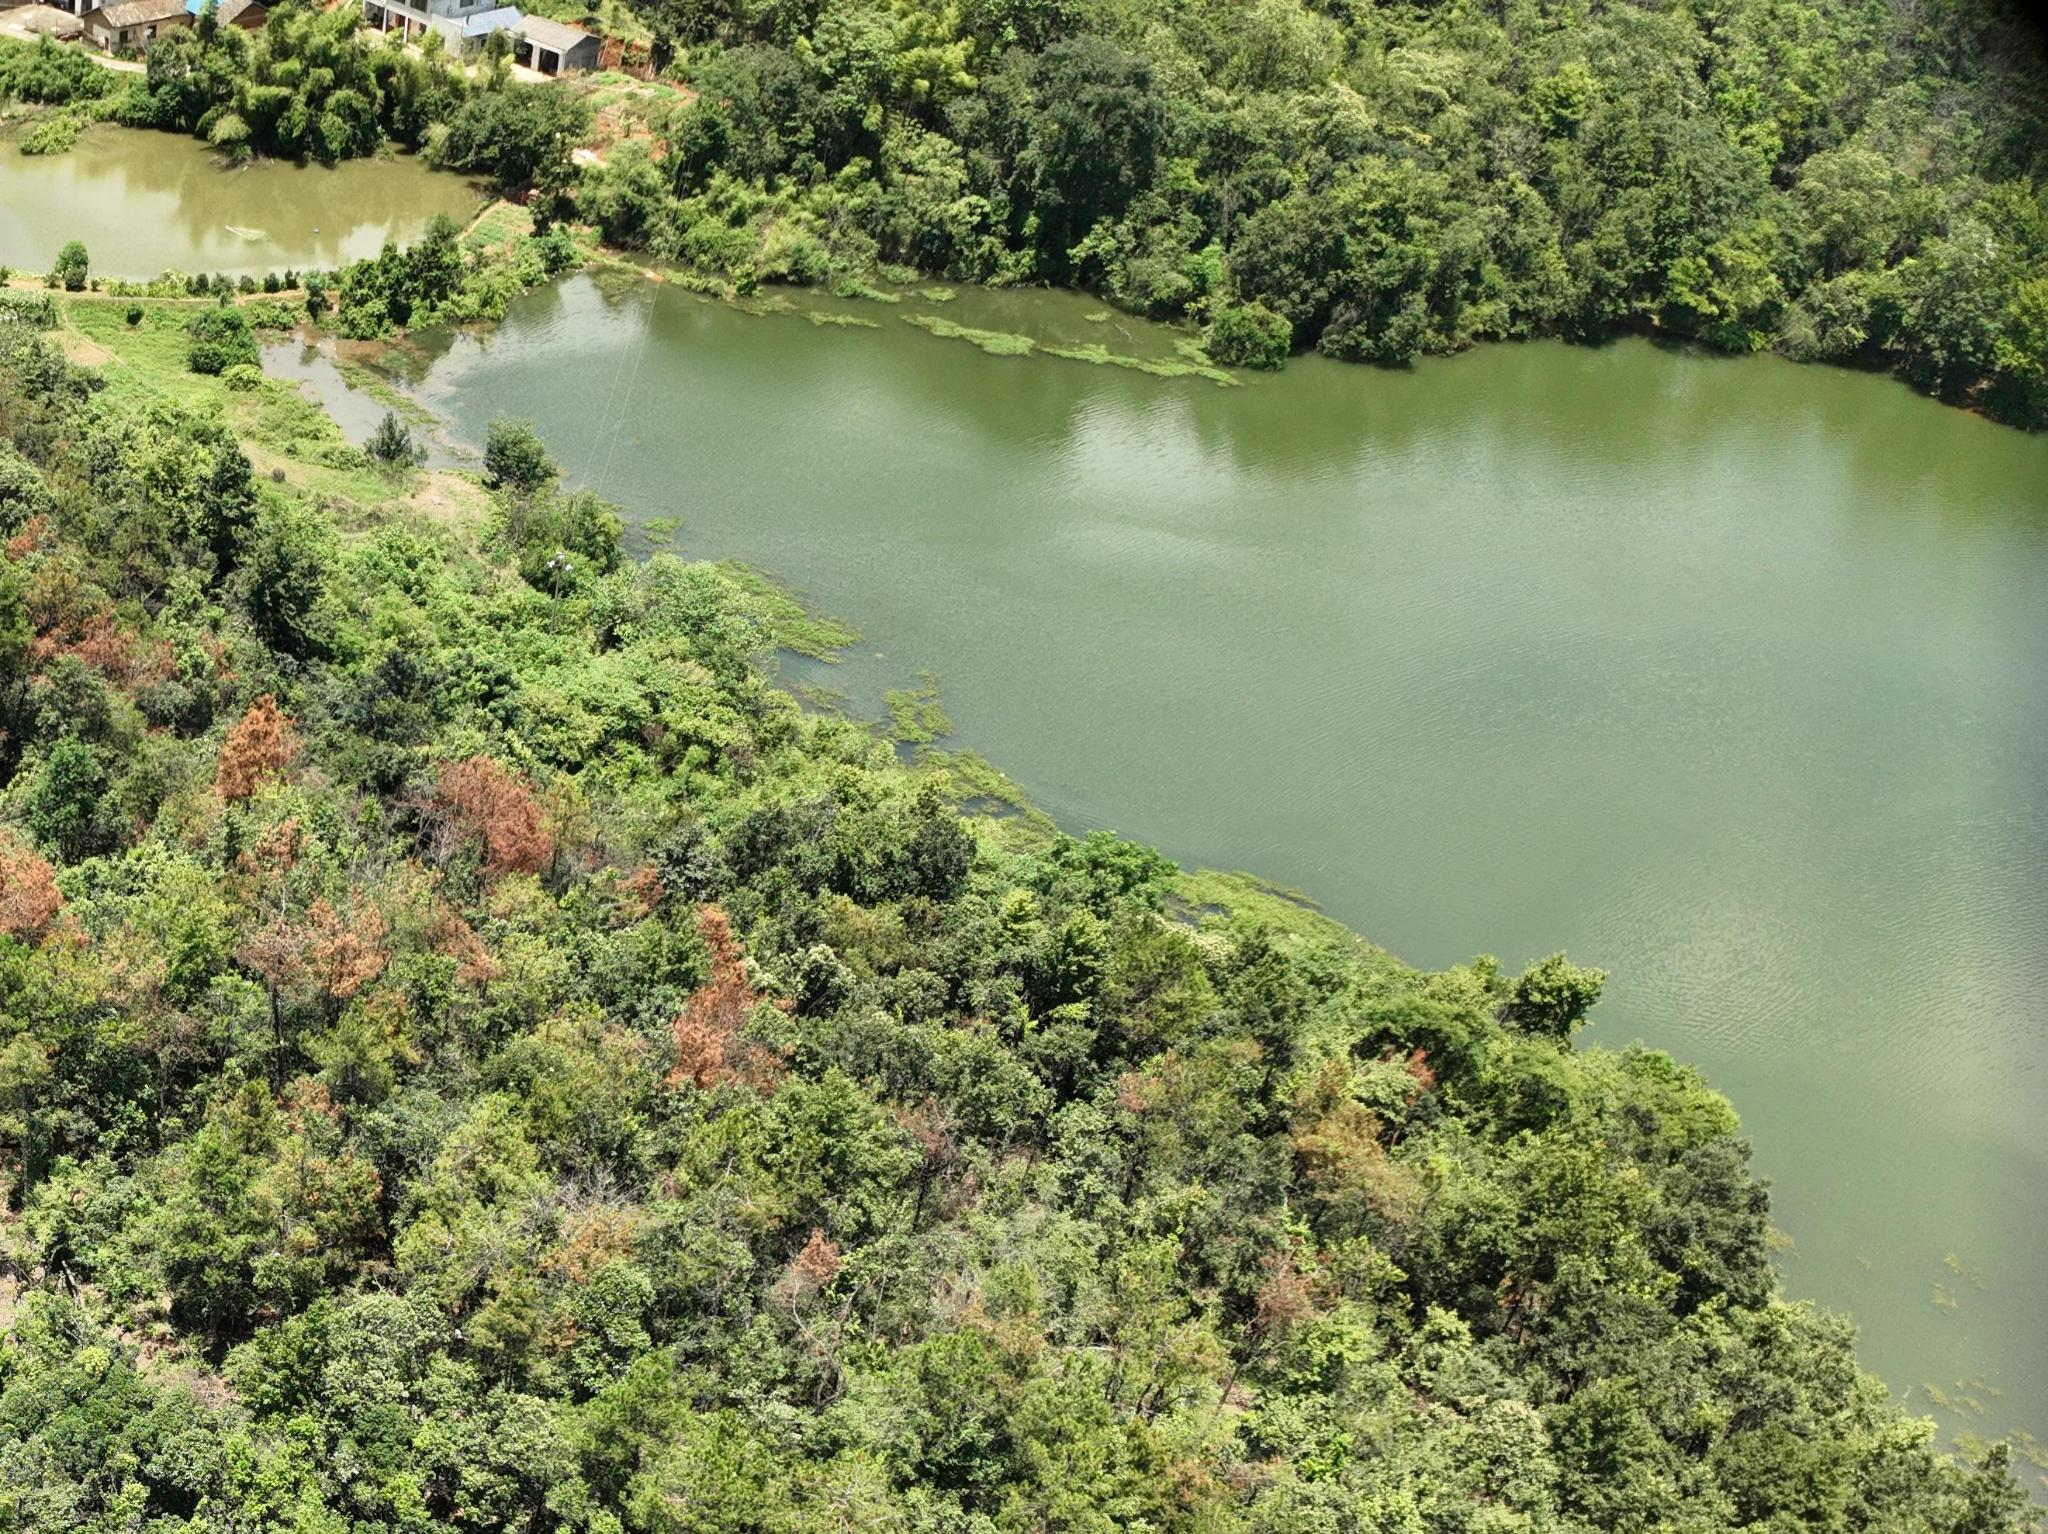heavy: (674, 906, 764, 1097), (432, 756, 556, 883), (253, 894, 393, 997), (29, 609, 174, 690), (209, 706, 296, 791), (3, 841, 60, 938), (775, 1225, 840, 1294)
